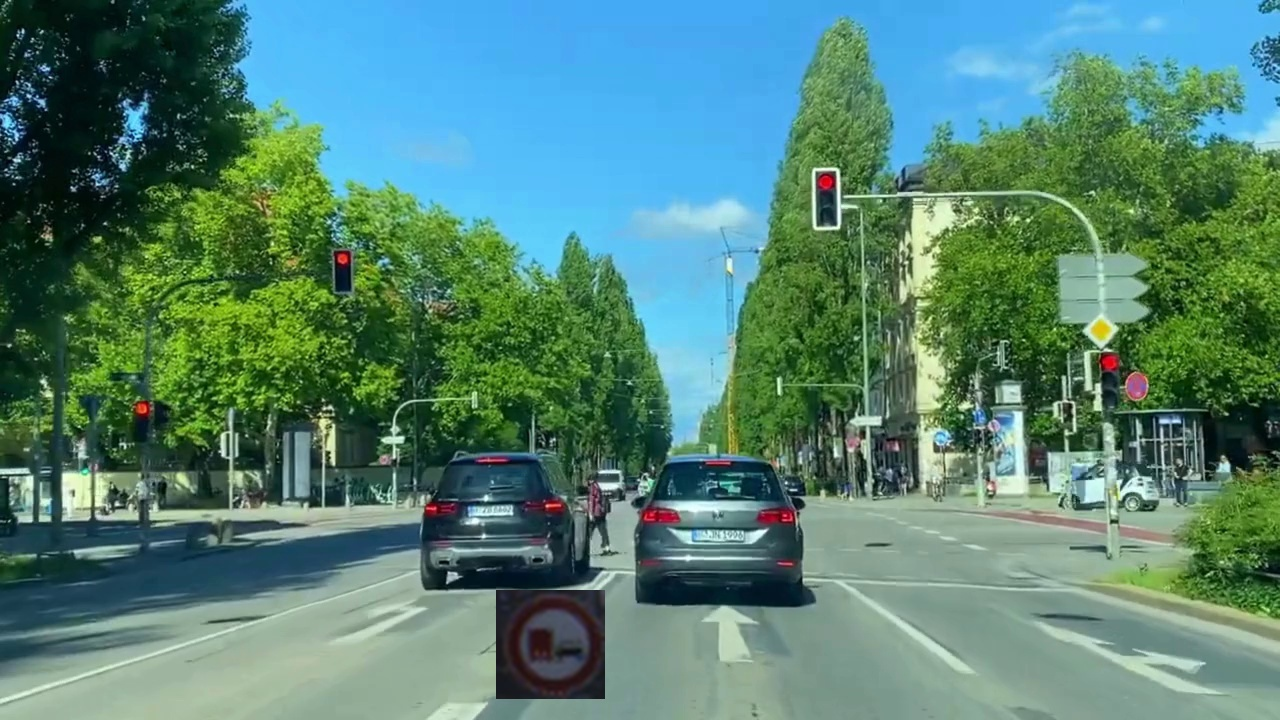No pass >3.5t: (496, 590, 605, 699)
